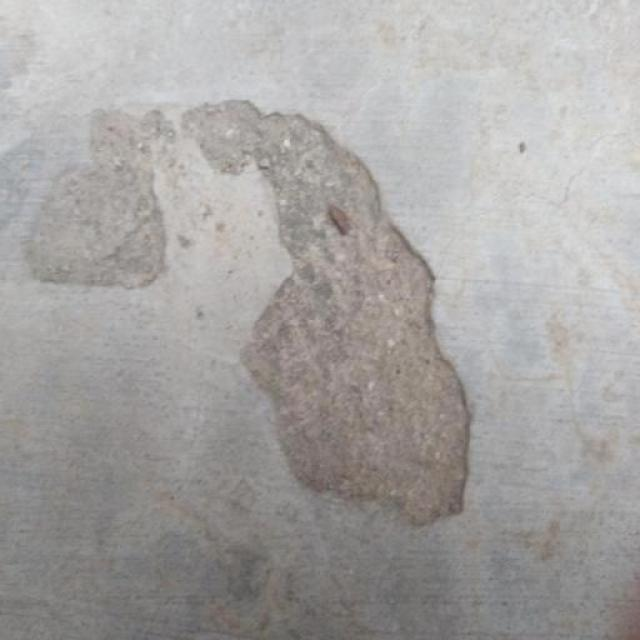D10: (182, 98, 471, 528), (25, 105, 192, 290)
